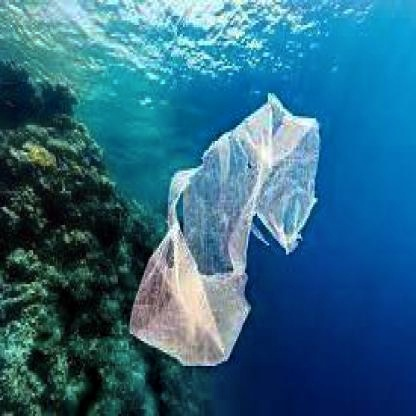pbag: (128, 91, 320, 370)
